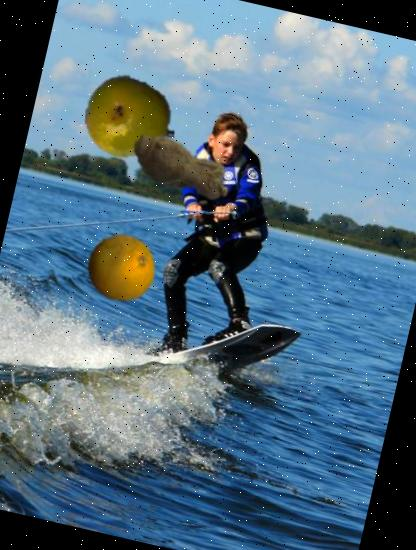Ginger: (115, 103, 246, 234)
Grapefruit: (77, 224, 162, 309)
Maracuja: (76, 63, 184, 172)
